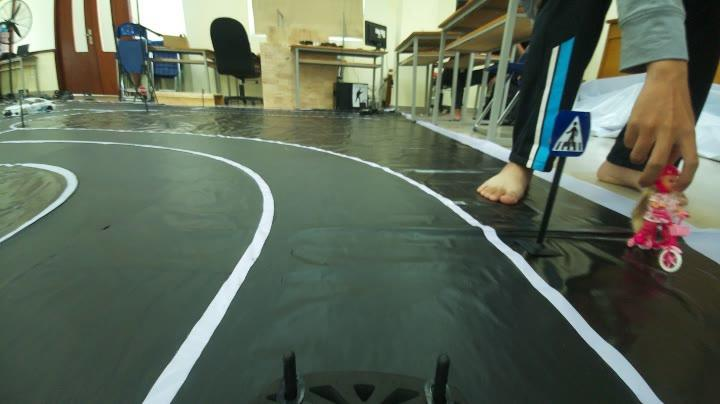crosswalk: (548, 110, 592, 158)
pedestrian: (630, 162, 695, 273)
